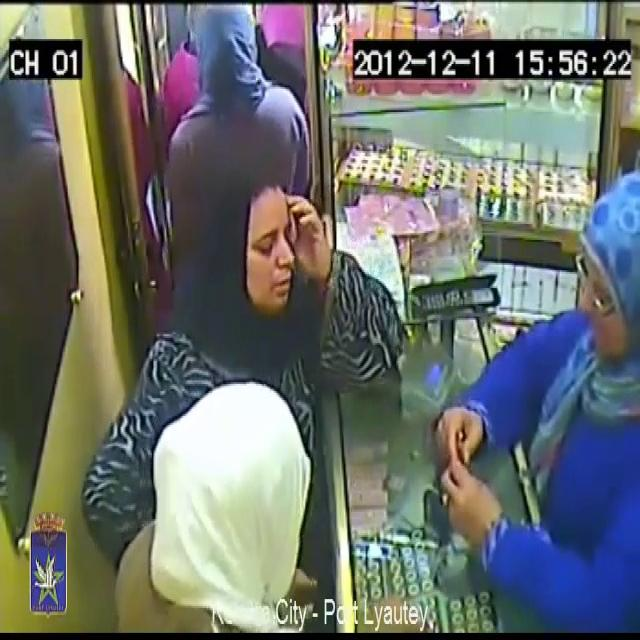Product: (438, 431, 464, 487)
normal: (105, 364, 323, 640), (211, 169, 315, 347), (248, 1, 328, 193), (173, 19, 263, 183)
shoplifting: (382, 144, 640, 627)
